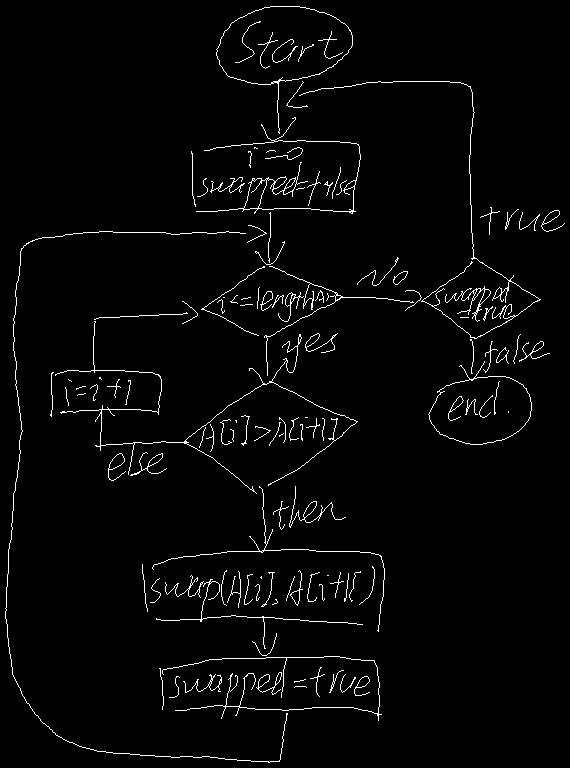arrow: (5, 225, 287, 762), (286, 81, 474, 259), (93, 301, 197, 372), (95, 405, 188, 450), (261, 81, 295, 140), (249, 335, 286, 384), (340, 290, 421, 310), (249, 486, 272, 552), (255, 212, 284, 264), (459, 339, 484, 380), (252, 616, 276, 655)
decision: (182, 381, 357, 493), (201, 266, 342, 336), (421, 257, 540, 338)
process: (142, 549, 384, 631), (159, 656, 381, 720), (191, 140, 360, 213), (50, 370, 161, 416)
terminator: (216, 6, 352, 84), (428, 376, 531, 444)
text: (150, 566, 374, 621), (169, 657, 369, 718), (197, 147, 355, 213), (235, 21, 342, 68), (199, 415, 337, 451), (217, 284, 337, 321), (432, 275, 514, 321), (273, 486, 345, 529), (483, 334, 549, 372), (448, 381, 508, 420), (480, 207, 564, 234), (108, 442, 166, 480), (282, 333, 337, 372), (65, 377, 130, 405), (357, 257, 407, 285)
